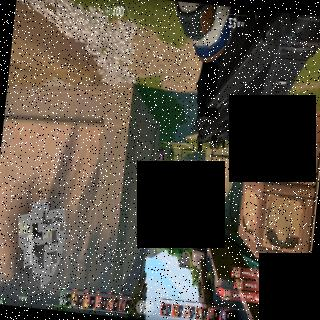ENEMY-BODY: (158, 144, 164, 162)
